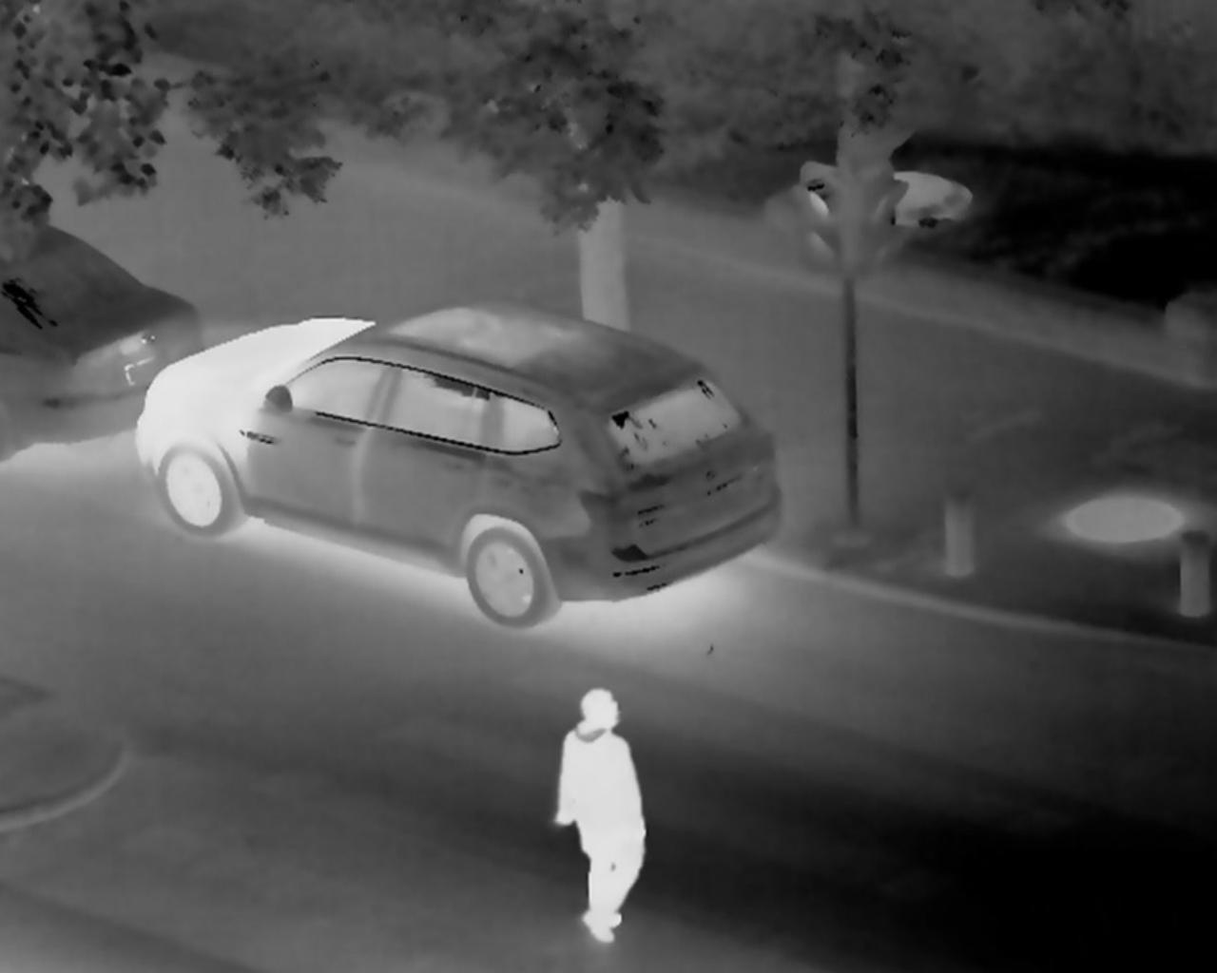person: (523, 666, 656, 943)
